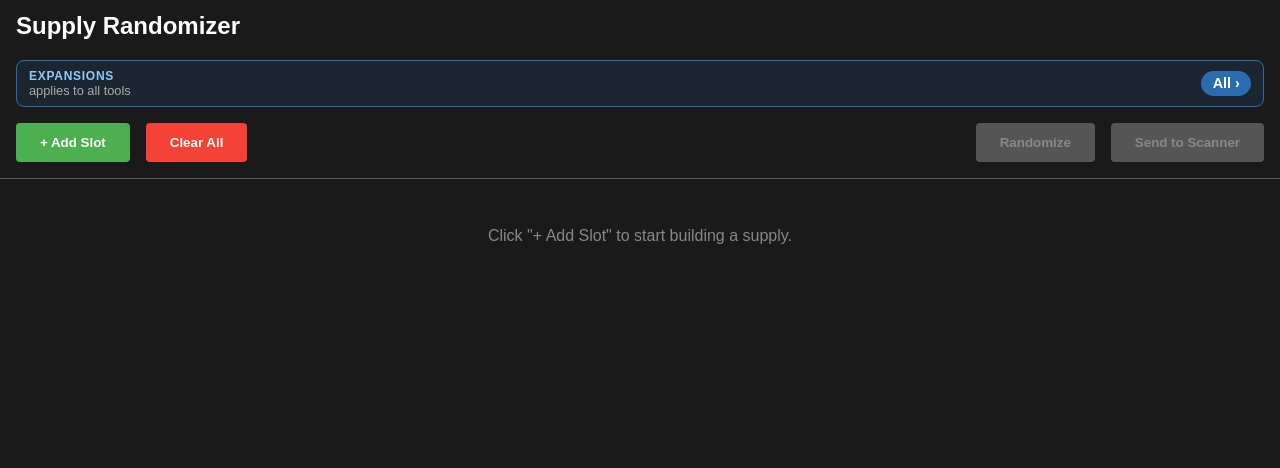
SupplyRandomizerScreen › can delete a slot
The width and height of the screenshot is (1280, 468).
Click the button "+ Add Slot": {"x": 73, "y": 142} left=16, top=123, right=130, bottom=162
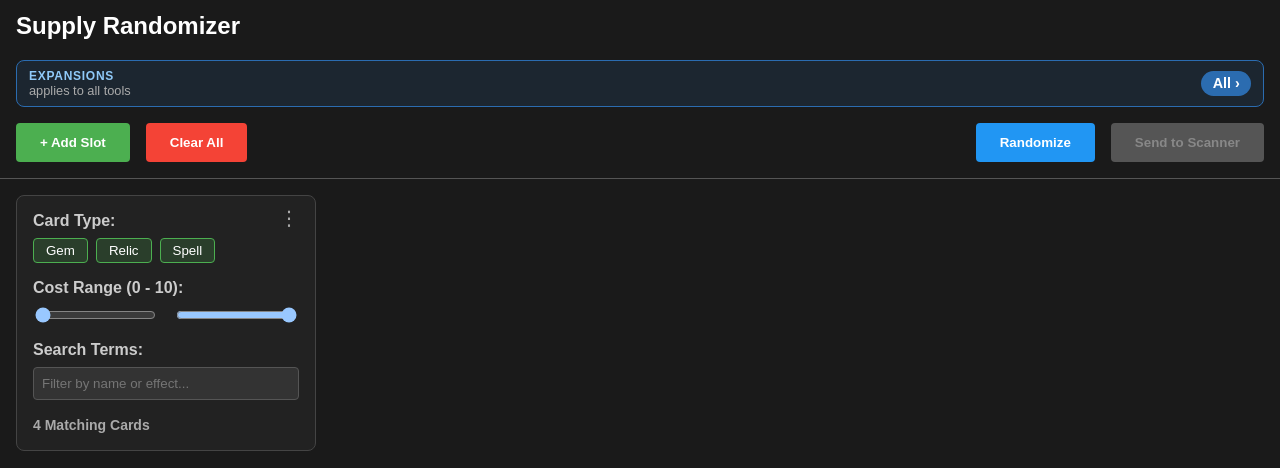
Now the text "Card Type:" is shown, box left=33, top=212, right=115, bottom=229
Click the button titled "Slot Menu": {"x": 289, "y": 218} left=271, top=204, right=307, bottom=232
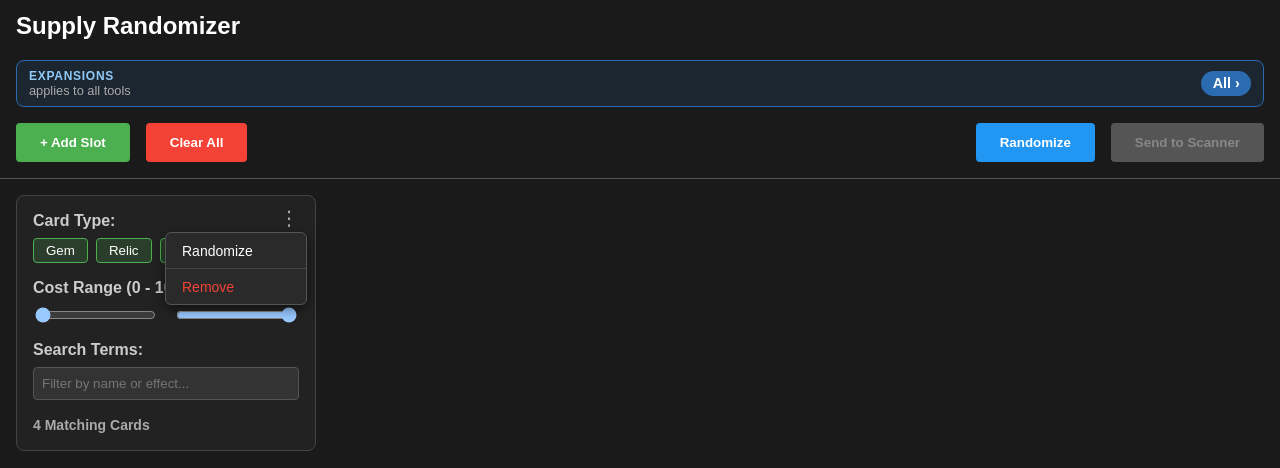
Click the button "Remove": {"x": 236, "y": 286} left=166, top=268, right=306, bottom=304
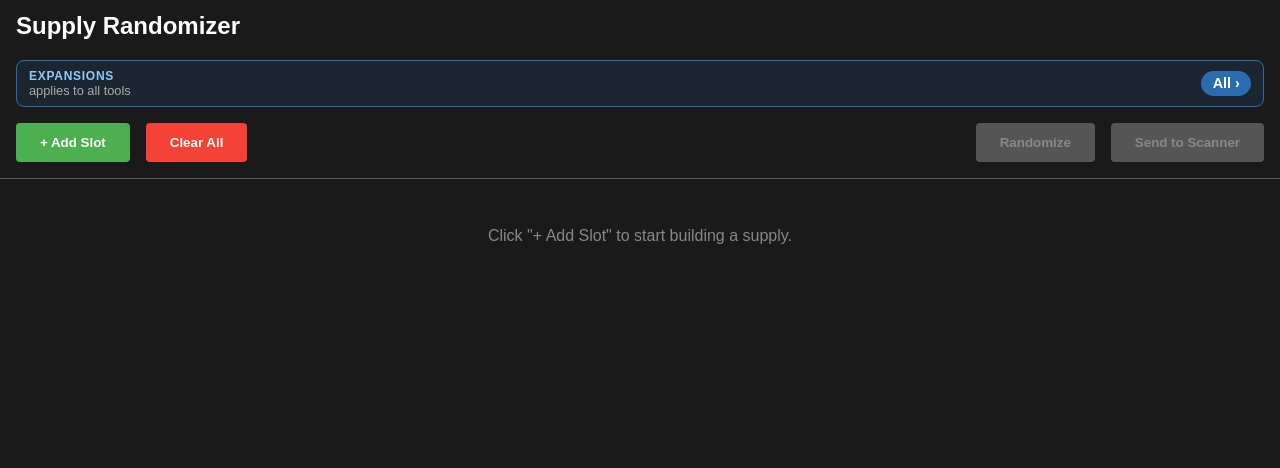
Now the text "Card Type:" is gone
